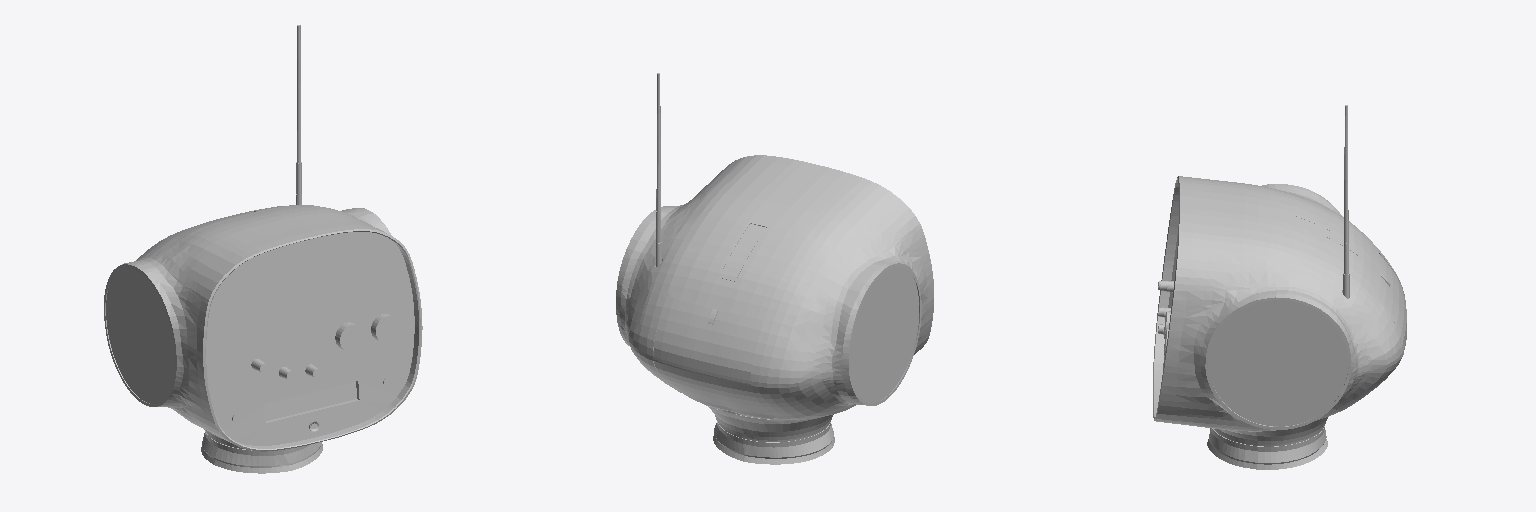
3 renders of one model, left to right at view 1: azimuth 30°, elevation 25°; view 2: azimuth 150°, elevation 25°; view 3: azimuth 270°, elevation 25°, orthographic.
Visible parts, largest first — view 1: RadioShell_low_Cube.028, Dials_low_Cylinder.024, Antenna_low_Cylinder; view 2: RadioShell_low_Cube.028, Back_low_Cube.026, Lid_low_Cube.001, Antenna_low_Cylinder; view 3: RadioShell_low_Cube.028, Back_low_Cube.026, Antenna_low_Cylinder.
Boxes of the visible parts, x1=… form: RadioShell_low_Cube.028: x1=104, y1=205, x2=422, y2=473; Dials_low_Cylinder.024: x1=232, y1=314, x2=399, y2=431; Antenna_low_Cylinder: x1=296, y1=25, x2=301, y2=204; RadioShell_low_Cube.028: x1=616, y1=155, x2=933, y2=464; Back_low_Cube.026: x1=653, y1=297, x2=780, y2=419; Lid_low_Cube.001: x1=719, y1=224, x2=765, y2=281; Antenna_low_Cylinder: x1=656, y1=73, x2=661, y2=266; RadioShell_low_Cube.028: x1=1153, y1=176, x2=1404, y2=469; Back_low_Cube.026: x1=1377, y1=254, x2=1406, y2=349; Antenna_low_Cylinder: x1=1343, y1=105, x2=1349, y2=298.
Bounding box in the file's own units: 6.46 × 9.95 × 6.1.